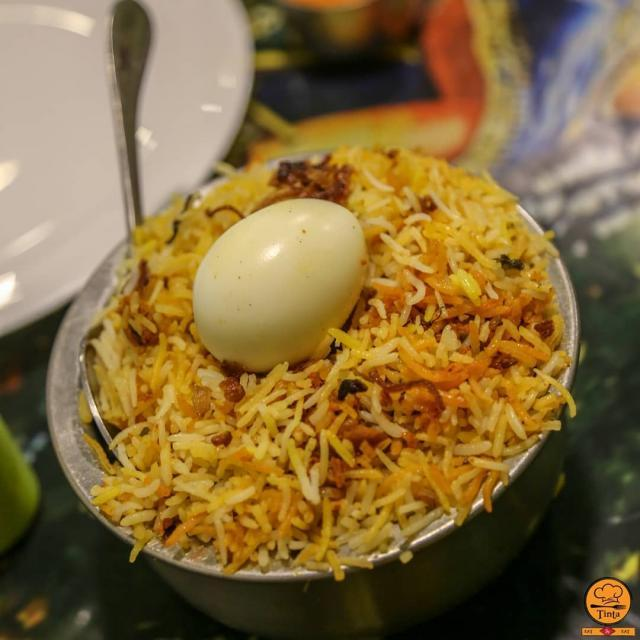biryani: (175, 162, 516, 599)
